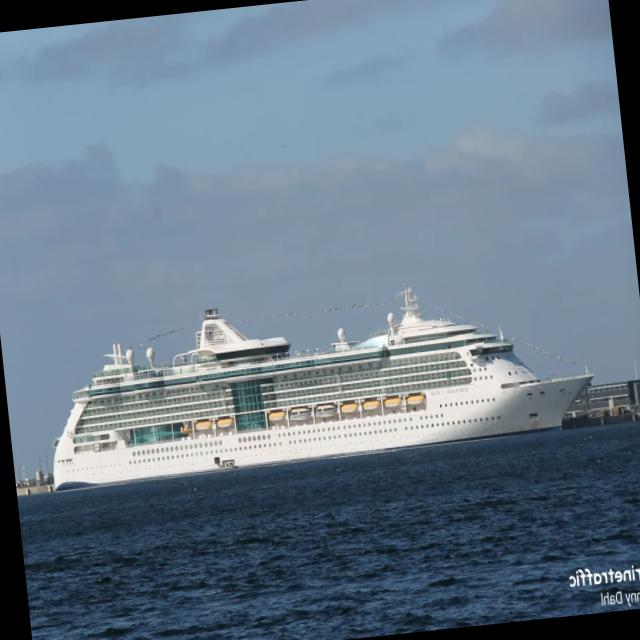Cruise: (54, 287, 591, 490)
